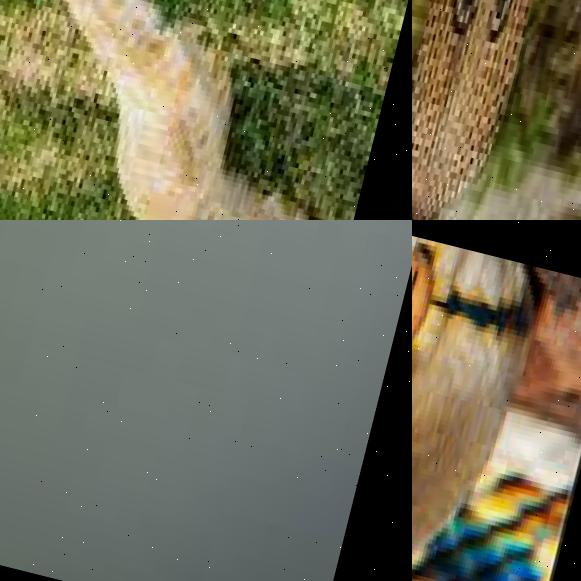snake: (0, 220, 335, 581), (0, 0, 412, 220), (412, 220, 561, 581), (412, 0, 581, 220)
